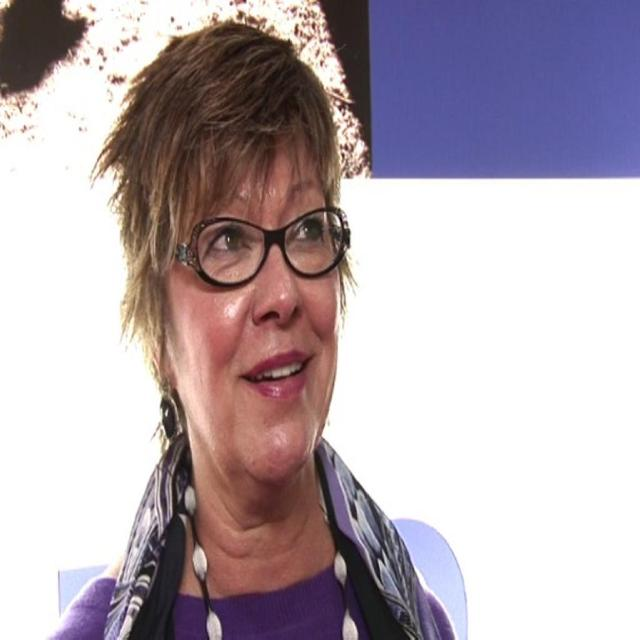Face: (176, 143, 338, 480)
